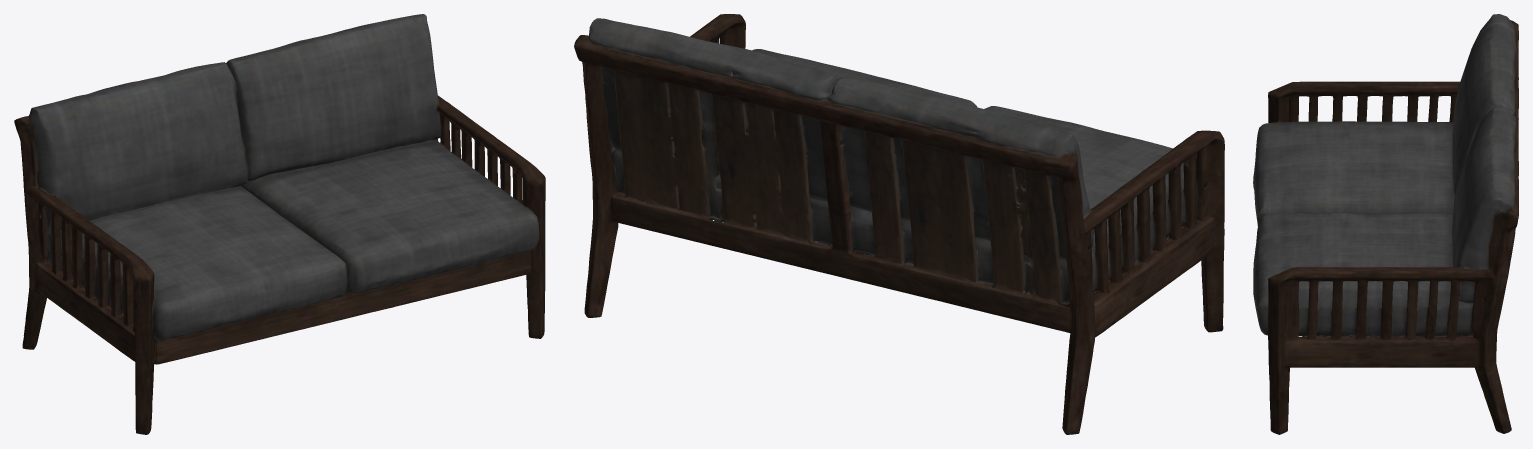
Rendered from grey_1.glb.
The picture shows the model from 3 angles, left to right: view 1: azimuth 30°, elevation 25°; view 2: azimuth 150°, elevation 25°; view 3: azimuth 270°, elevation 25°; orthographic projection. The views are drawn at different scales.
Visible parts, largest first — view 1: geometry_0; view 2: geometry_0; view 3: geometry_0.
Boxes of the visible parts, x1=… form: geometry_0: x1=14, y1=14, x2=545, y2=434; geometry_0: x1=574, y1=14, x2=1224, y2=434; geometry_0: x1=1253, y1=14, x2=1518, y2=434.
Bounding box in the file's own units: 1 × 0.5646 × 0.5768.
Materials: 1 (1 with a texture image).
